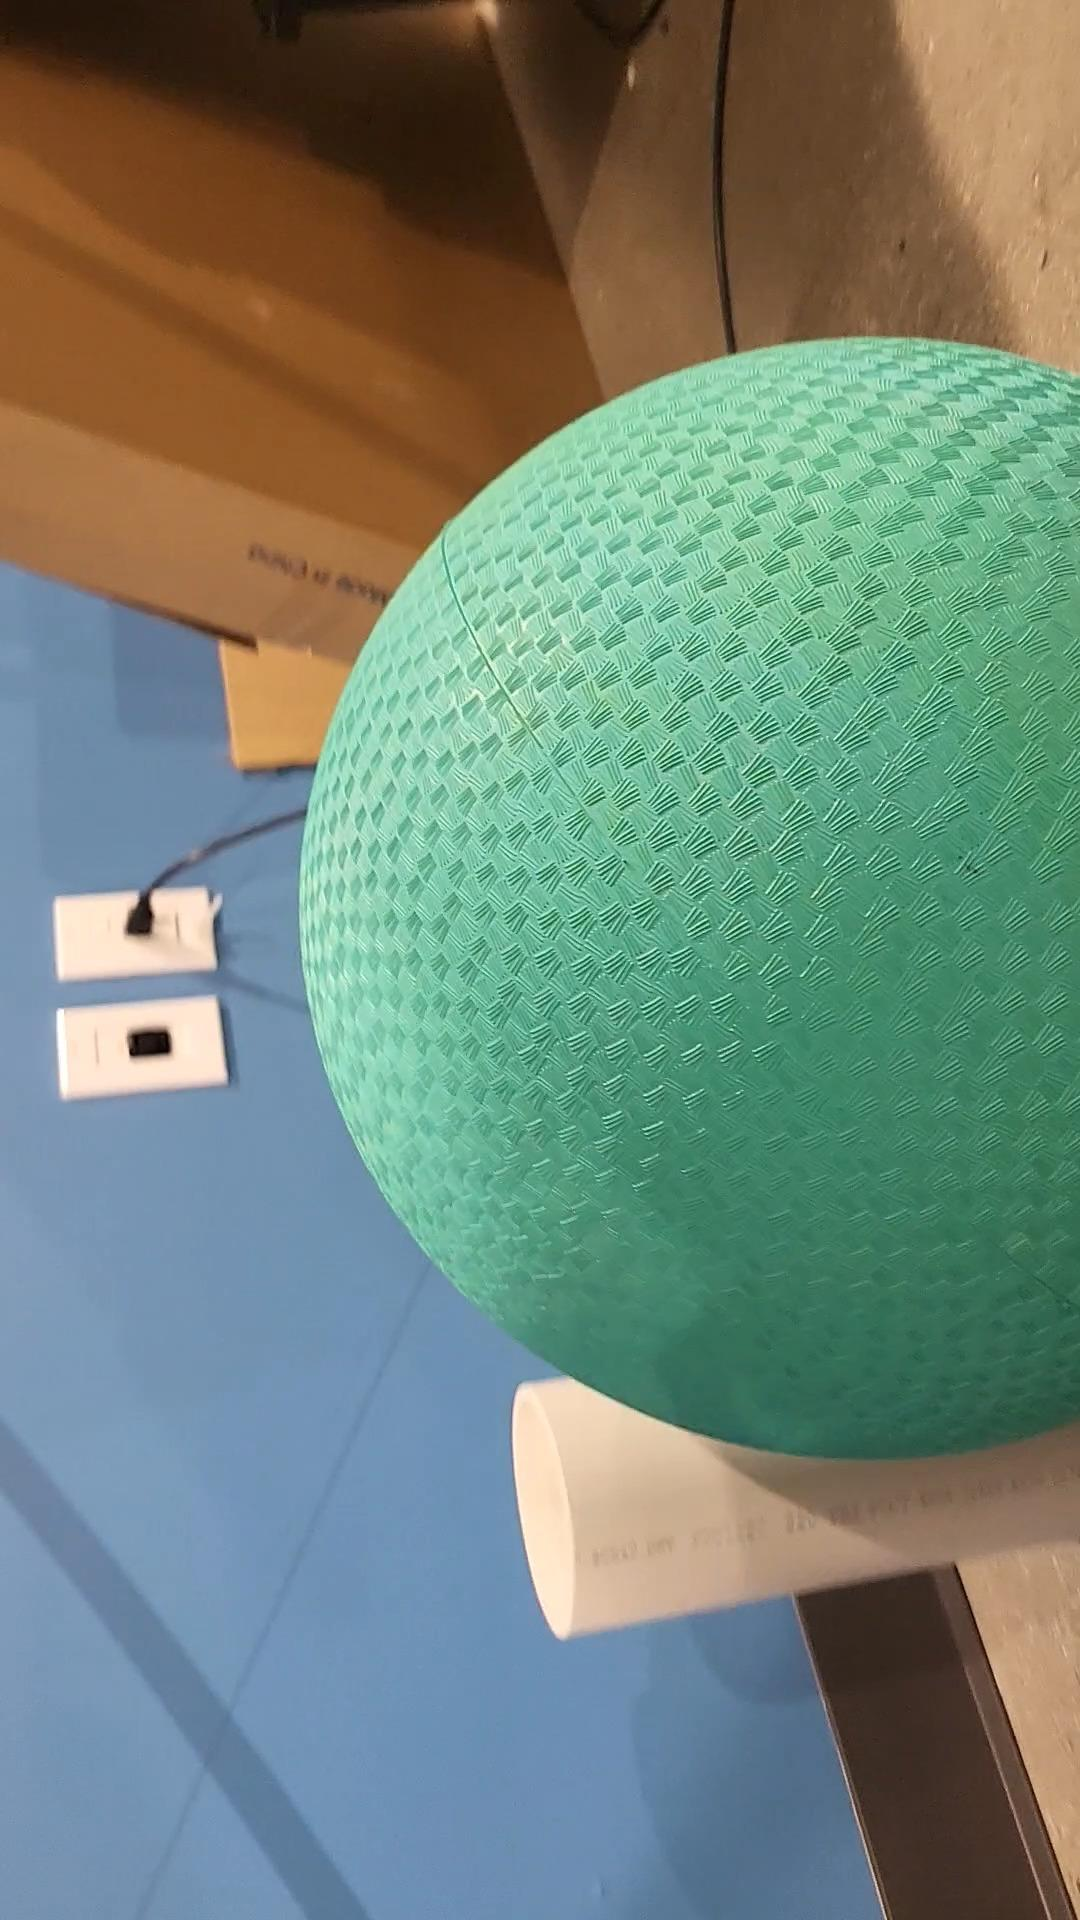algae: (293, 331, 1080, 1460)
coral: (510, 1344, 1080, 1643)
